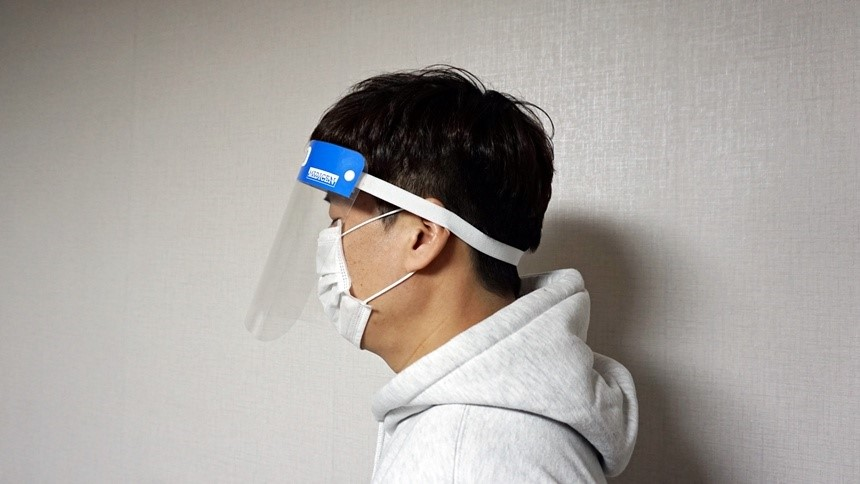face_with_mask: (311, 71, 538, 352)
